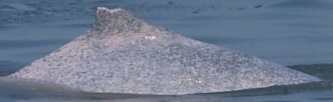fin: (14, 5, 324, 96)
